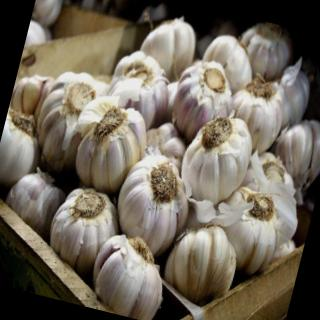Bawang Putih: (107, 147, 203, 267)
